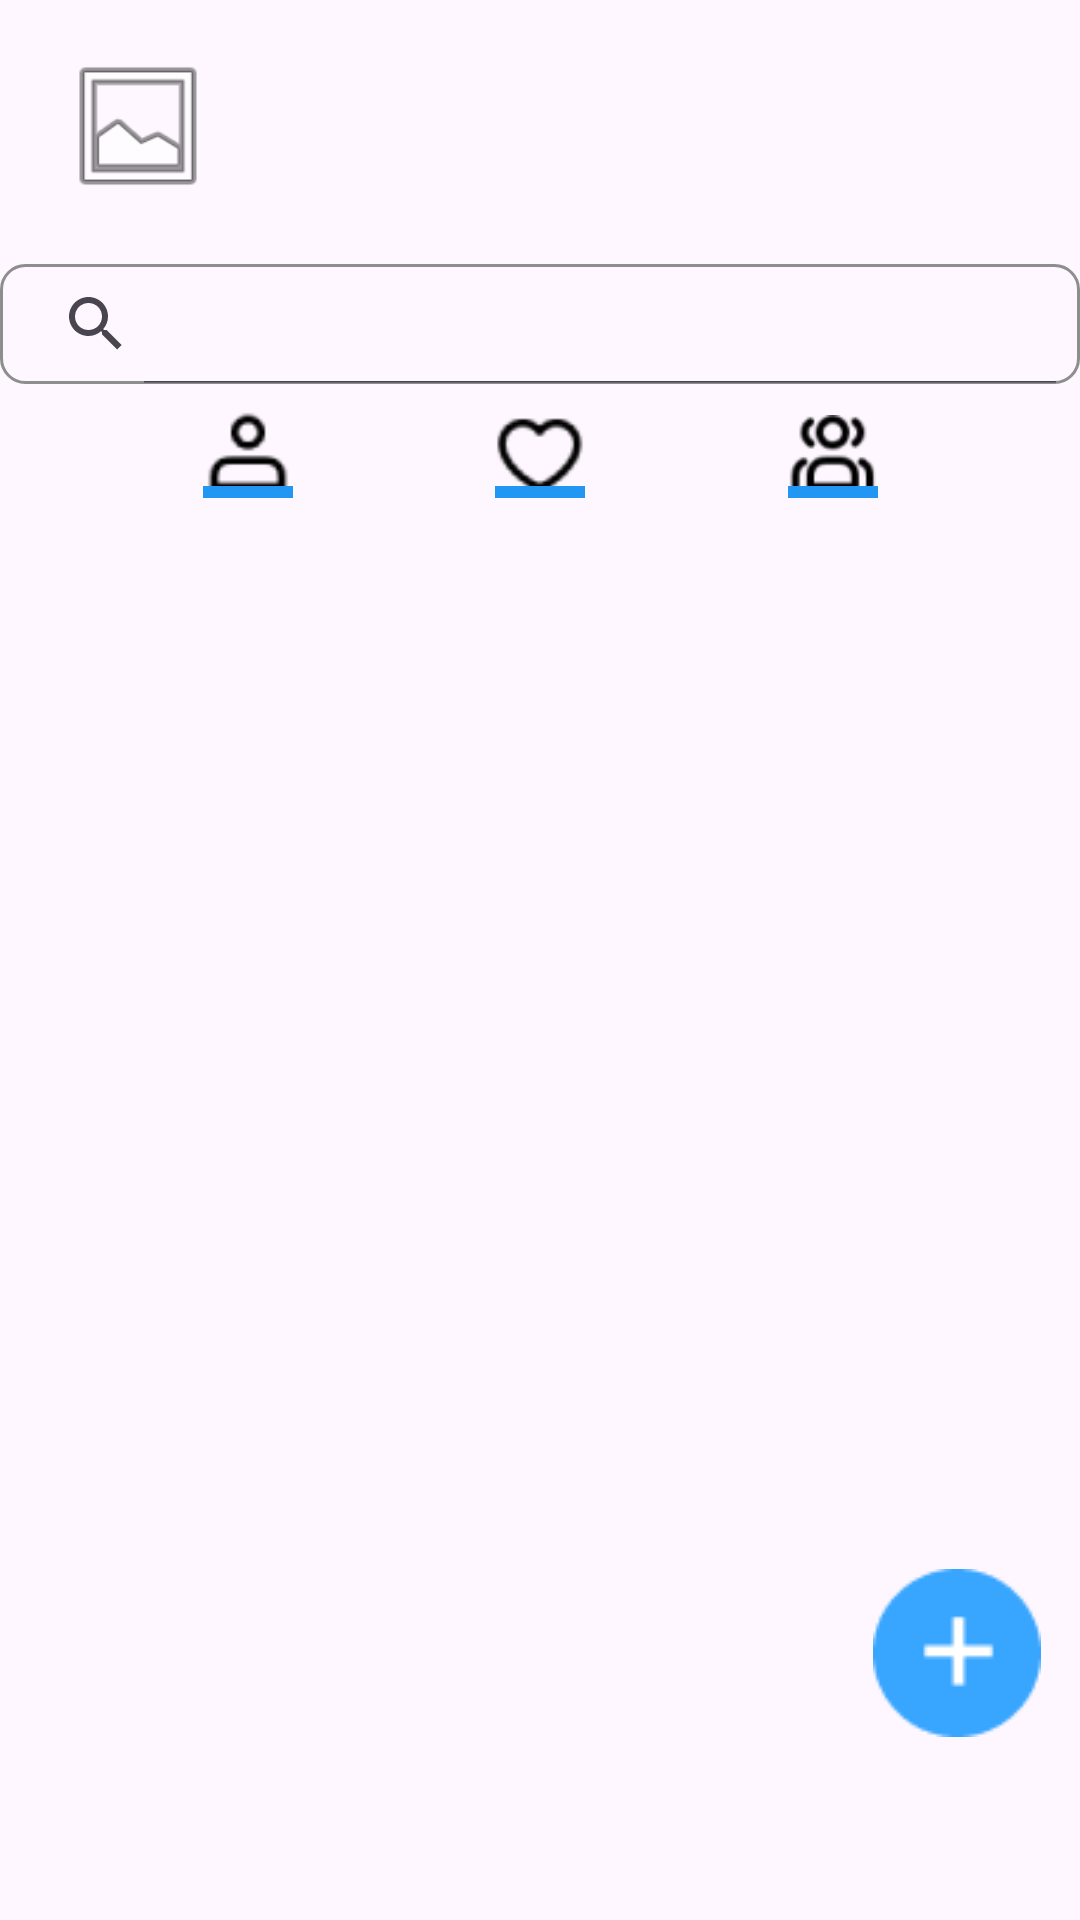

Named icons in this screenshot (1080x1920) and their centers, (x=x, y=y):
gallery: (x=138, y=126)
human: (x=248, y=455)
love: (x=540, y=458)
people: (x=833, y=456)
post: (x=957, y=1653)
